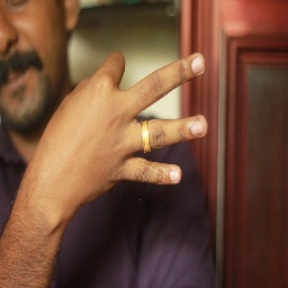K: (41, 49, 211, 194)
